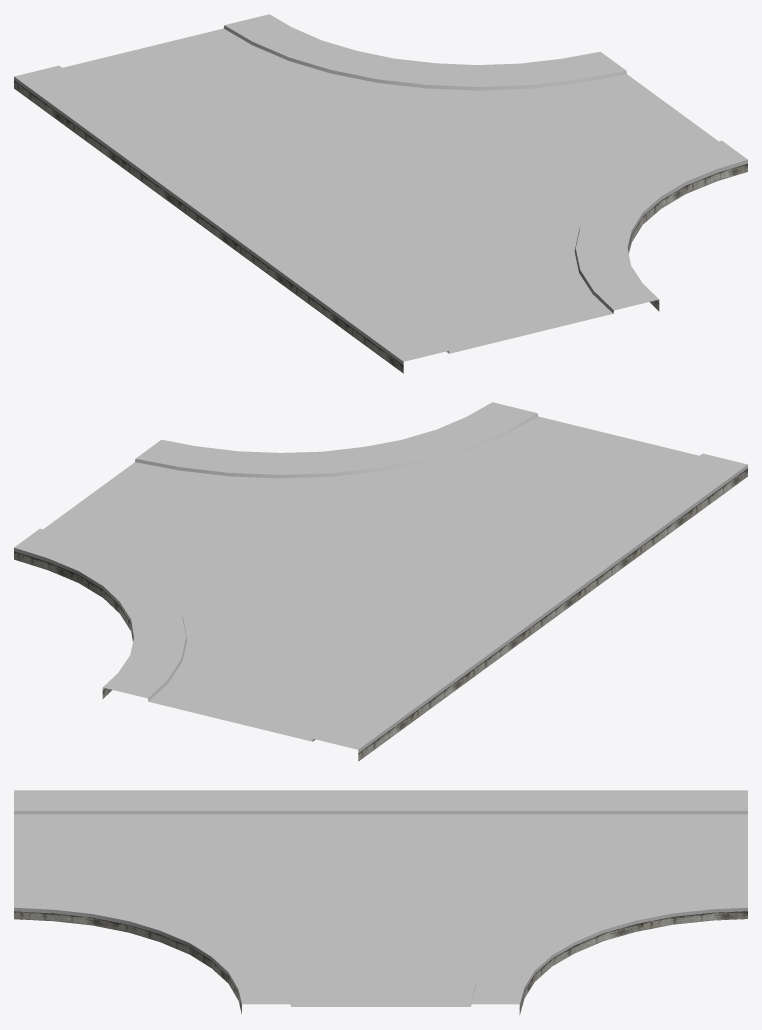
File: Road_2_line_3_road.FBX
3 renders of one model, top to bottom at view 1: azimuth 30°, elevation 25°; view 2: azimuth 150°, elevation 25°; view 3: azimuth 270°, elevation 25°, orthographic. The views are drawn at different scales.
Visible parts, largest first — view 1: Road_2_line_3_road; view 2: Road_2_line_3_road; view 3: Road_2_line_3_road.
Part boxes in pixels (left/top/right/bottom): Road_2_line_3_road: left=14, top=14, right=747, bottom=373; Road_2_line_3_road: left=14, top=402, right=747, bottom=761; Road_2_line_3_road: left=14, top=790, right=747, bottom=1014.
Size of the model in its own units: 1864 by 46.64 by 2705.
